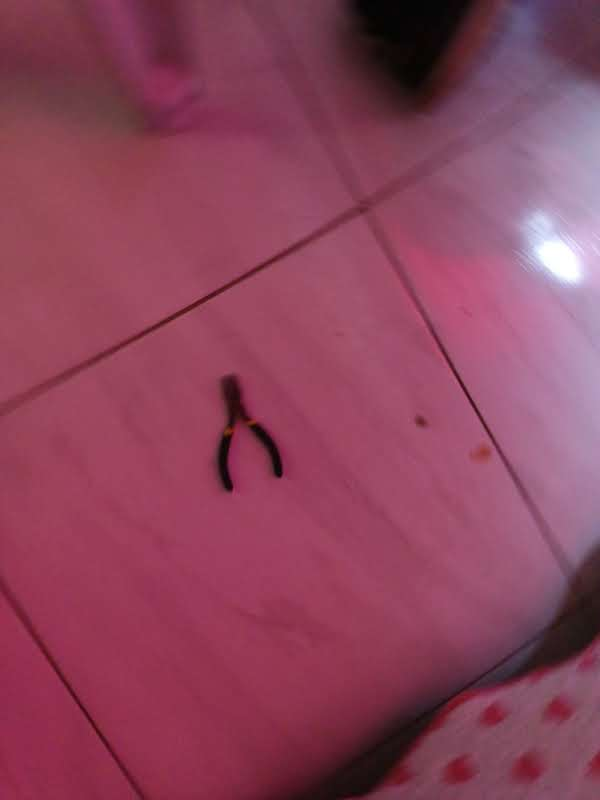Pinzas: (217, 374, 282, 492)
